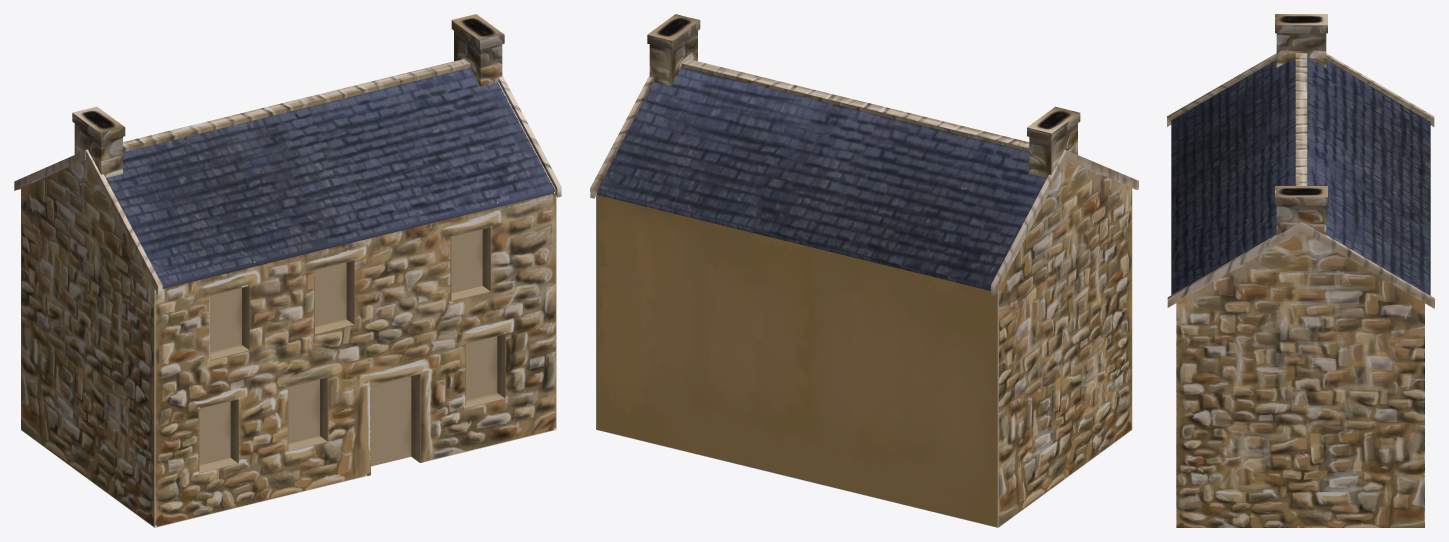
The model's file is maison_asset.fbx.
3 renders of one model, left to right at view 1: azimuth 30°, elevation 25°; view 2: azimuth 150°, elevation 25°; view 3: azimuth 270°, elevation 25°, orthographic. The views are drawn at different scales.
Parts seen in each view (by area): view 1: mairie_1; view 2: mairie_1; view 3: mairie_1.
Boxes of the visible parts, x1,y1,x2,y2 form: mairie_1: (14,14,561,527); mairie_1: (590,14,1138,527); mairie_1: (1167,14,1434,527).
Bounding box in the file's own units: 24.95 × 20.97 × 15.37.
1 material, 1 textured.
